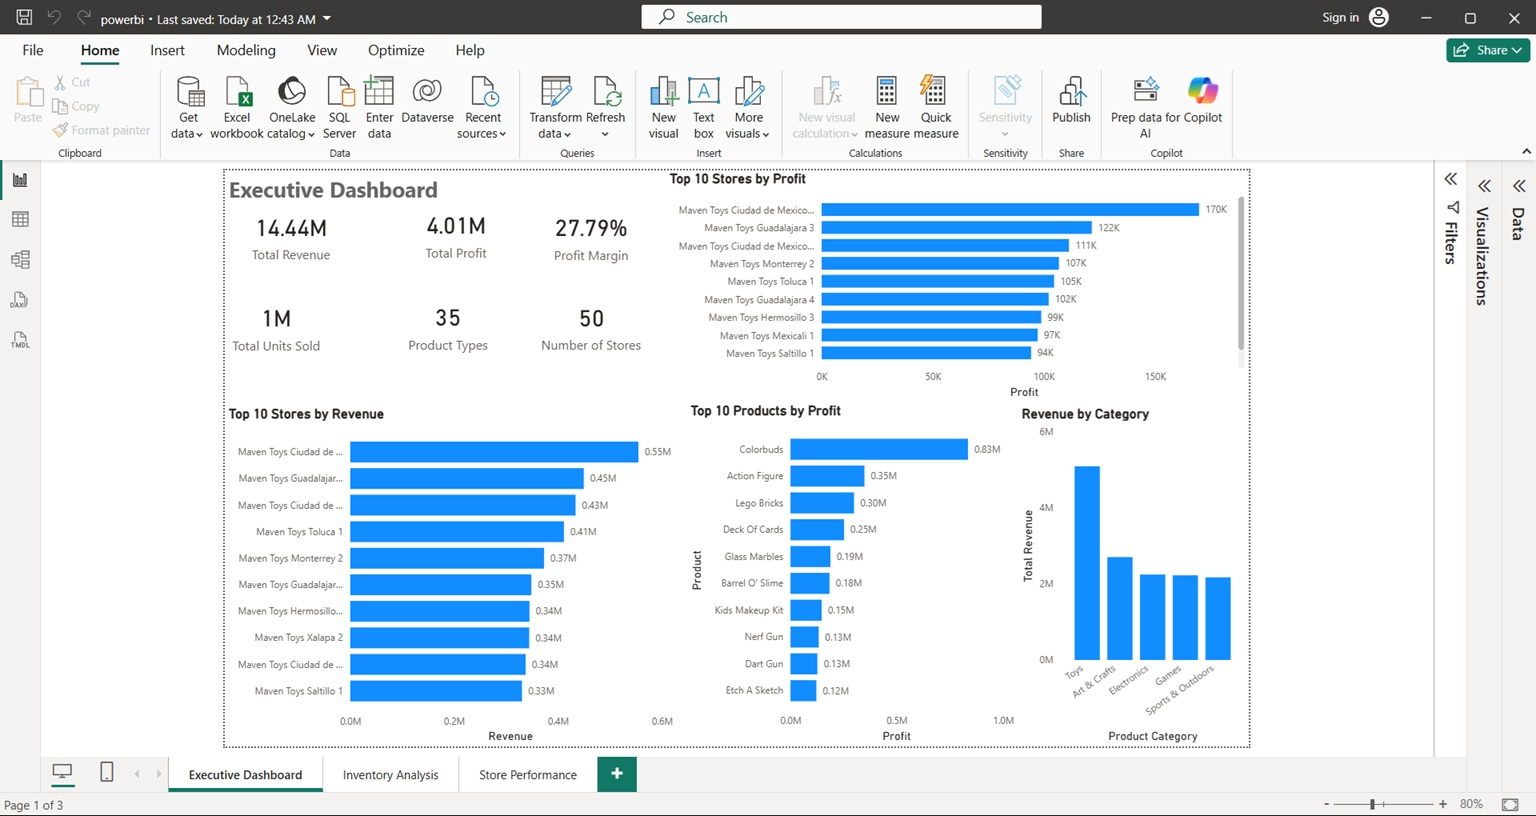

This screenshot's page, from the dashboard's own definition file:
{"tool":"powerbi","page":{"name":"Executive Dashboard","canvas":[1280,720],"ordinal":0},"visuals":[{"type":"card","fields":{"Values":["00_Measures.Profit Margin"]},"box":[377.9,26.9,161.4,107.6],"z":0},{"type":"card","fields":{"Values":["00_Measures.Total Profit"]},"box":[193.8,0,191.2,156.2],"z":1000},{"type":"card","fields":{"Values":["00_Measures.Total Revenue"]},"box":[0,4.9,166.3,151.6],"z":2000},{"type":"barChart","title":"Top 10 Stores by Revenue","fields":{"Category":["public vw_sales_analysis.store_name"],"Y":["Sum(public vw_sales_analysis.revenue)"]},"box":[0,293.5,577.2,426.8],"z":3000},{"type":"barChart","title":"Top 10 Products by Profit","fields":{"Category":["public vw_sales_analysis.product_name"],"Y":["Sum(public vw_sales_analysis.profit)"]},"box":[577.2,289.8,414.5,430.4],"z":4000},{"type":"columnChart","title":"Revenue by Category","fields":{"Category":["public vw_product_kpis.product_category"],"Y":["Sum(public vw_product_kpis.total_revenue)"]},"box":[991.2,293.8,288.8,426.2],"z":5000},{"type":"barChart","title":"Top 10 Stores by Profit","fields":{"Y":["Sum(public vw_sales_analysis.profit)"],"Category":["public vw_sales_analysis.store_name"]},"box":[551.2,0,728.8,290],"z":6000},{"type":"card","fields":{"Values":["00_Measures.Total Units Sold"]},"box":[0,136.7,128.9,115.6],"z":7000},{"type":"card","fields":{"Values":["00_Measures.Number of Products"]},"box":[193.3,145.6,171.1,96.7],"z":8000},{"type":"card","fields":{"Values":["00_Measures.Number of Stores"]},"box":[371.7,141.8,173.6,105.2],"z":9000},{"type":"textbox","box":[0,0,289.8,45.2],"z":10000}]}

Visuals, with their boxes on the page's 1280x720 design canvas (x1, y1, x2, y2). These are canvas units, not pixel positions in the 1536x816 screenshot, which may show the page scaled, cropped or inside an application window:
card - 00_Measures.Profit Margin: 378, 27, 539, 134
card - 00_Measures.Total Profit: 194, 0, 385, 156
card - 00_Measures.Total Revenue: 0, 5, 166, 156
"Top 10 Stores by Revenue" barChart: 0, 294, 577, 720
"Top 10 Products by Profit" barChart: 577, 290, 992, 720
"Revenue by Category" columnChart: 991, 294, 1280, 720
"Top 10 Stores by Profit" barChart: 551, 0, 1280, 290
card - 00_Measures.Total Units Sold: 0, 137, 129, 252
card - 00_Measures.Number of Products: 193, 146, 364, 242
card - 00_Measures.Number of Stores: 372, 142, 545, 247
textbox: 0, 0, 290, 45
